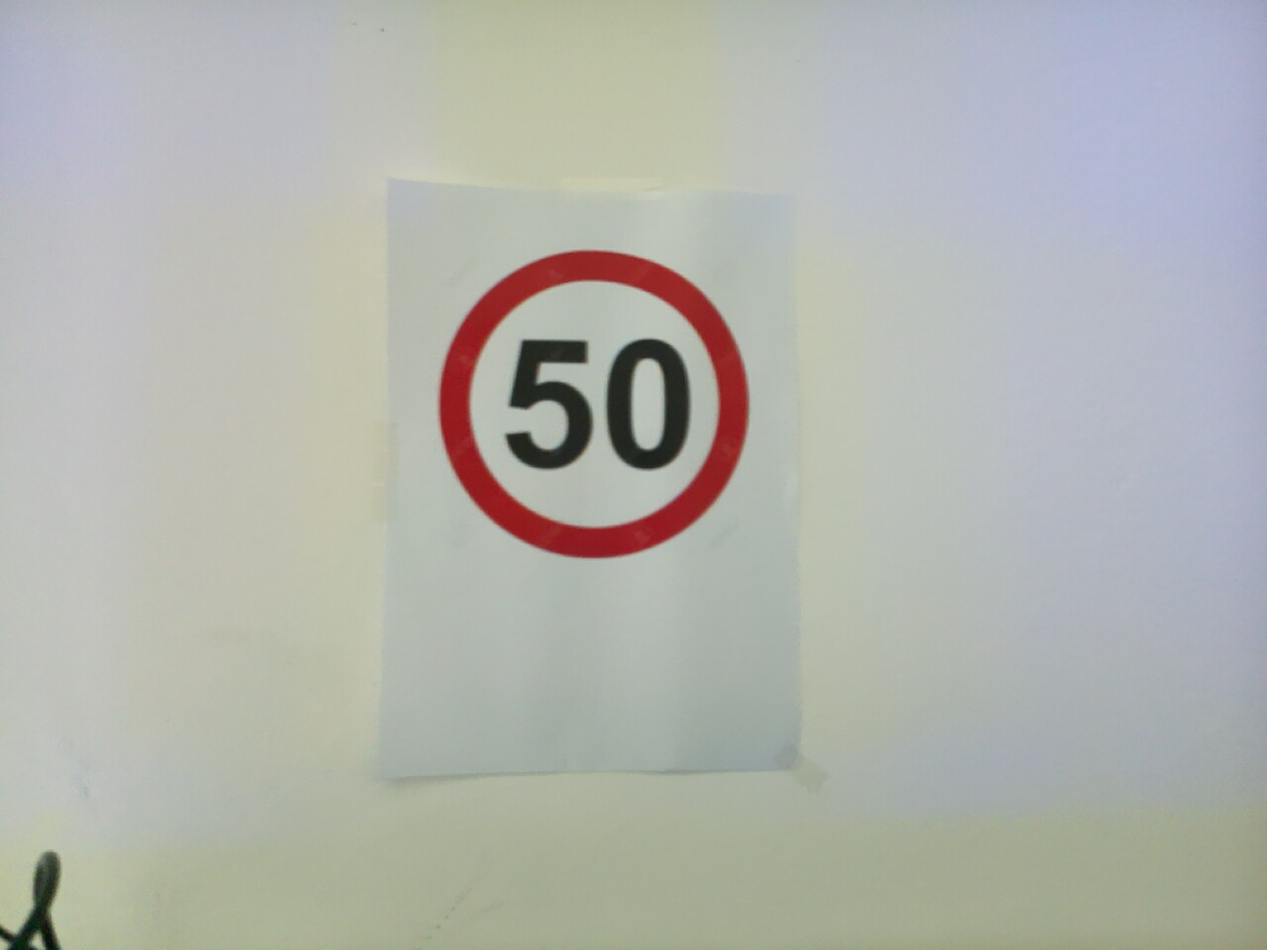speed_50: (430, 240, 759, 568)
